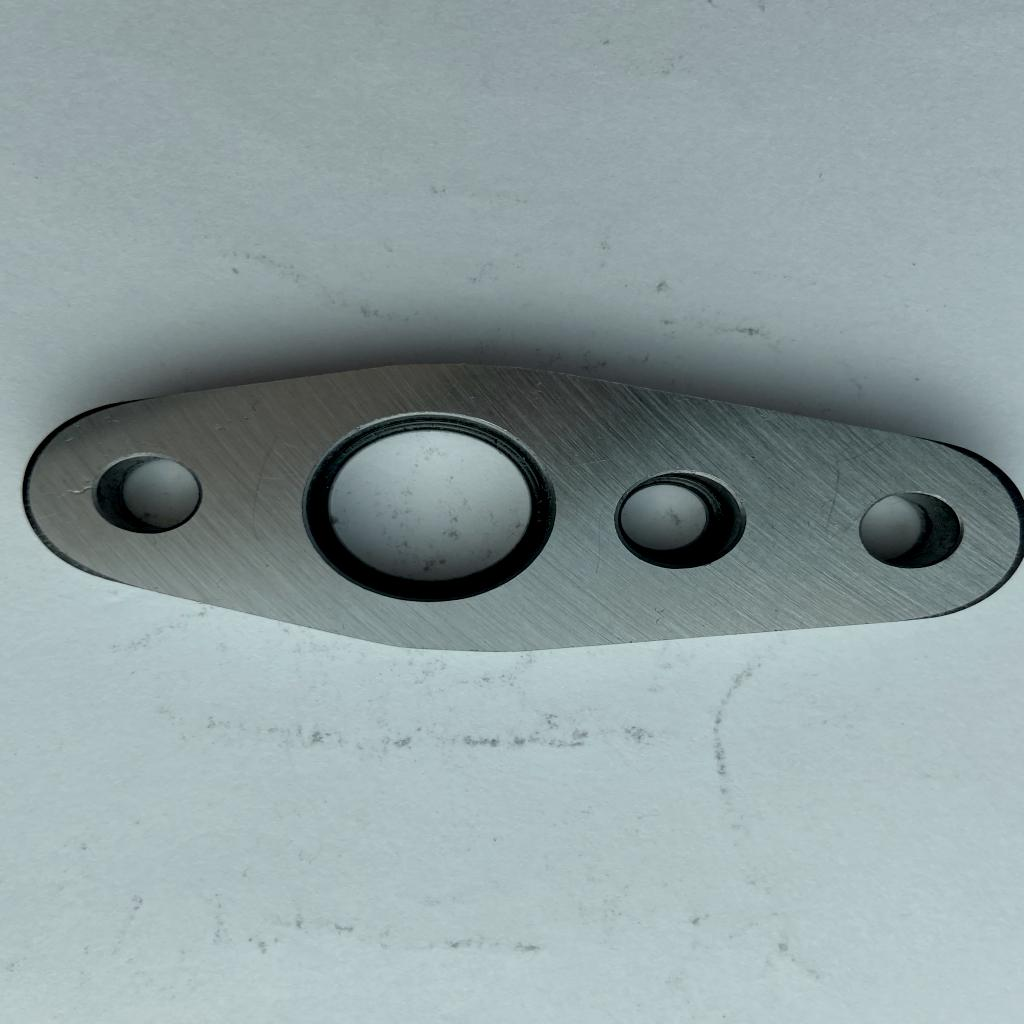chap: (66, 484, 96, 496), (65, 434, 75, 445), (744, 454, 758, 460)
lines: (243, 432, 282, 547), (817, 456, 857, 541), (586, 504, 608, 578)
